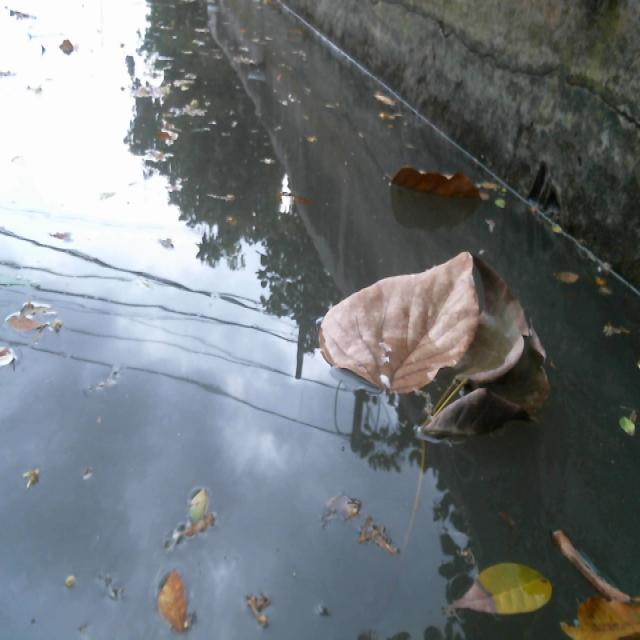Big-leaf: (292, 244, 478, 395), (418, 270, 548, 442), (386, 154, 498, 200)
Small-leaf: (452, 552, 548, 618), (322, 493, 403, 556), (0, 290, 53, 385), (152, 563, 212, 640), (553, 253, 616, 306), (178, 486, 228, 539), (374, 84, 407, 123), (615, 403, 640, 436), (489, 193, 513, 214)
